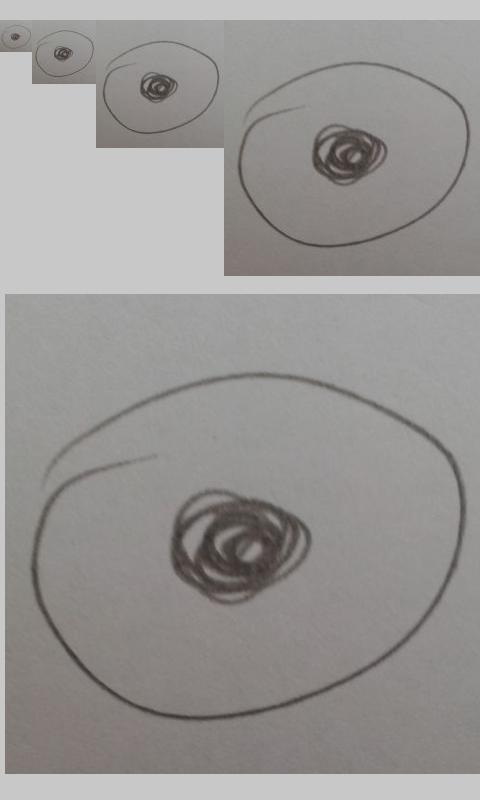radio_button: (27, 369, 468, 724), (236, 59, 473, 251), (102, 39, 220, 135), (34, 29, 96, 78), (1, 23, 32, 50)
